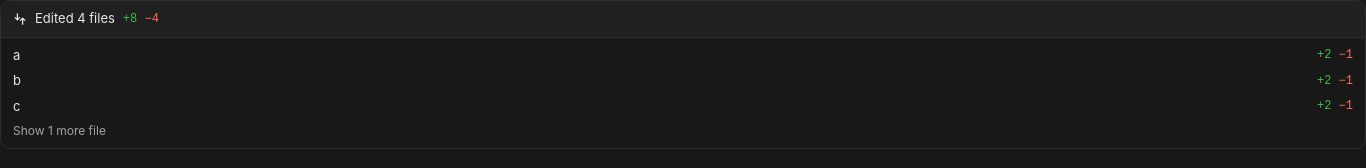
Test: TurnChanges card (spec §2) › shows three files with no toggle, and four with 'Show 1 more file' (Review Focus 5)
This screenshot has width=1366, height=168.
Step 1. Click the button "Show 1 more file" → (59, 131), box [13,122,106,140]
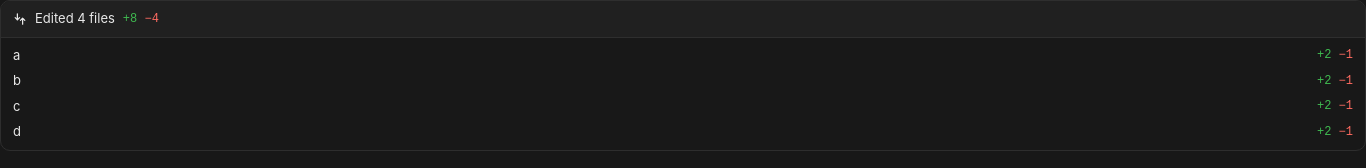
Now the text "d" is shown, box [13,123,21,139]
